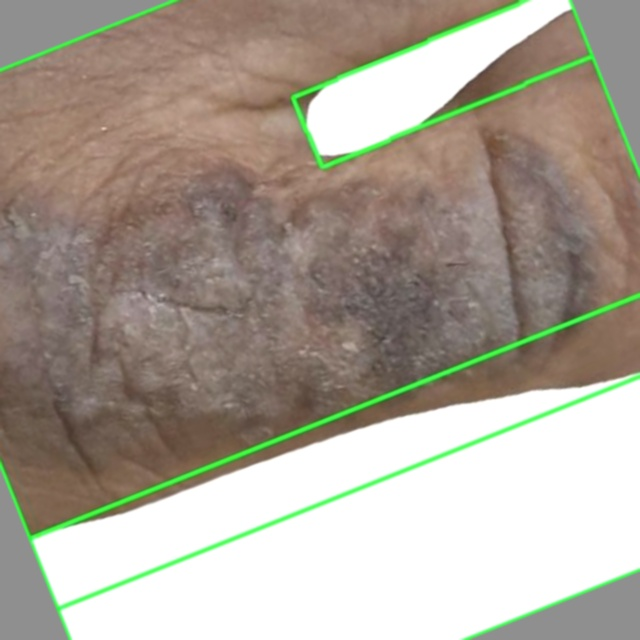Contact Dermatitis: (0, 0, 639, 609), (29, 295, 639, 639), (292, 0, 592, 167)
